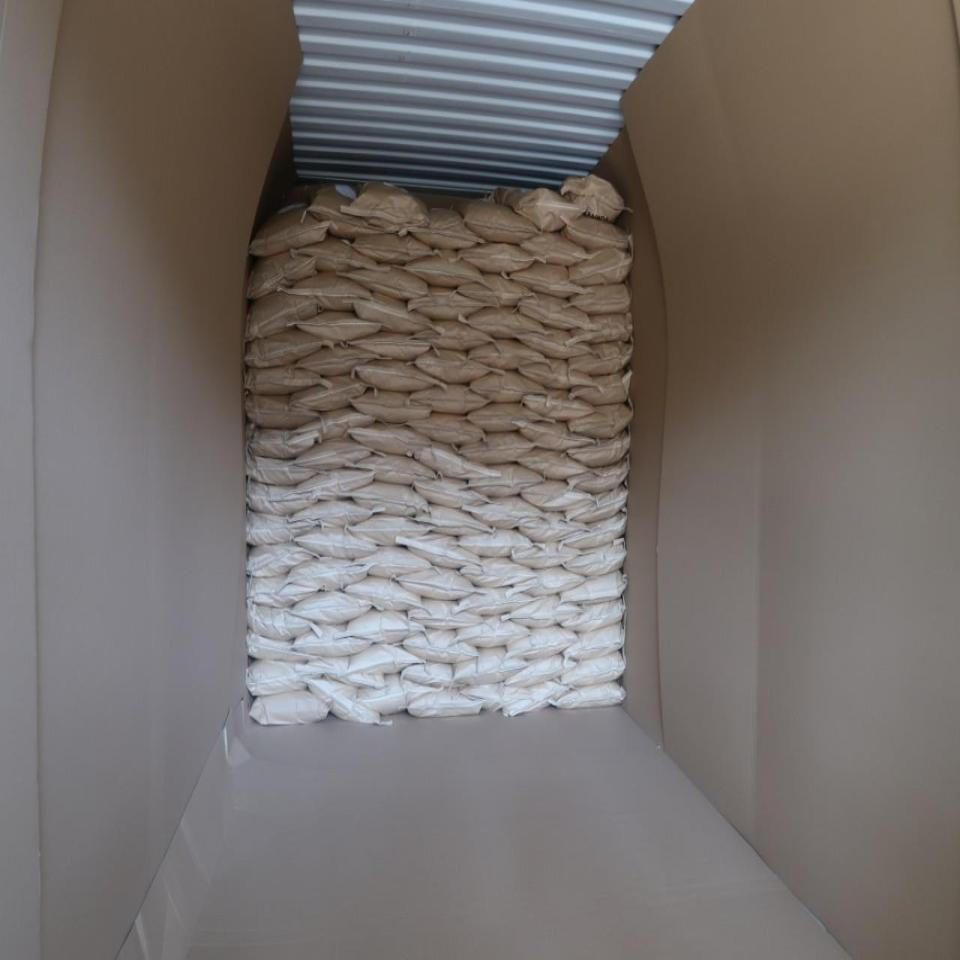bag: (345, 182, 429, 233), (306, 187, 387, 238), (249, 204, 329, 255), (307, 680, 394, 726), (243, 292, 320, 340), (495, 189, 583, 231), (355, 675, 446, 715), (244, 326, 330, 368), (293, 233, 388, 271), (282, 271, 372, 310), (247, 251, 319, 299), (401, 250, 491, 288), (462, 203, 545, 244), (355, 294, 439, 334), (406, 286, 499, 321), (413, 442, 500, 479), (290, 344, 392, 375), (452, 646, 532, 685), (409, 208, 484, 249), (289, 592, 379, 626), (280, 557, 367, 592), (295, 309, 386, 342), (400, 533, 482, 569), (351, 359, 443, 391), (346, 481, 430, 516), (290, 375, 369, 412), (249, 690, 332, 725), (298, 657, 386, 690), (246, 446, 320, 485), (338, 267, 431, 298), (292, 438, 385, 469), (285, 469, 378, 500), (337, 610, 424, 643), (462, 496, 549, 529), (507, 264, 593, 297), (247, 599, 315, 640), (351, 390, 433, 424), (520, 356, 602, 390), (247, 423, 324, 459), (564, 426, 630, 468), (401, 629, 480, 664), (292, 623, 373, 657), (244, 365, 332, 396), (294, 527, 379, 559), (245, 394, 320, 430), (415, 351, 499, 383), (505, 595, 586, 628), (466, 403, 558, 432), (246, 509, 320, 545), (248, 478, 318, 516), (352, 546, 435, 578), (562, 178, 625, 220), (398, 568, 480, 600), (288, 500, 385, 527), (246, 661, 323, 695), (505, 625, 582, 659), (246, 629, 324, 662), (469, 463, 547, 496), (353, 233, 436, 264), (294, 408, 377, 439), (467, 307, 550, 338), (344, 577, 424, 609), (518, 296, 598, 328), (348, 424, 433, 454), (456, 587, 541, 617), (560, 511, 627, 549), (409, 383, 491, 414), (457, 274, 536, 306), (459, 431, 535, 464), (246, 544, 324, 576), (468, 370, 546, 402), (458, 244, 544, 273), (350, 515, 433, 545), (411, 506, 494, 536), (522, 387, 595, 421), (520, 233, 595, 266), (410, 321, 495, 350), (407, 599, 484, 631), (566, 484, 629, 523), (557, 651, 627, 686), (455, 616, 531, 648), (348, 332, 434, 360), (346, 644, 426, 674), (414, 477, 491, 508), (468, 340, 550, 369), (405, 414, 484, 444), (504, 655, 578, 687), (569, 248, 633, 285), (519, 482, 595, 513), (502, 682, 571, 716), (561, 215, 630, 249), (516, 327, 594, 357), (566, 456, 629, 493), (517, 449, 592, 480), (460, 558, 540, 587), (562, 623, 624, 660), (518, 422, 597, 451), (514, 567, 587, 598), (458, 527, 536, 556), (561, 571, 627, 605), (357, 455, 437, 483), (565, 314, 633, 346), (246, 577, 321, 606), (565, 540, 625, 576), (408, 690, 485, 718), (519, 513, 590, 543), (569, 404, 632, 437), (571, 371, 632, 405), (561, 598, 623, 631), (555, 681, 625, 710), (568, 343, 633, 374), (512, 542, 589, 568), (459, 684, 538, 709), (570, 284, 630, 315), (401, 663, 469, 689)
